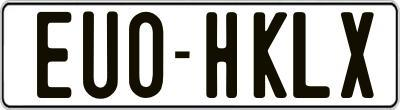0: (129, 11, 166, 103)
E: (34, 10, 72, 101)
H: (206, 11, 242, 101)
K: (254, 9, 293, 97)
L: (290, 11, 328, 101)
U: (82, 11, 119, 102)
X: (338, 12, 376, 100)
